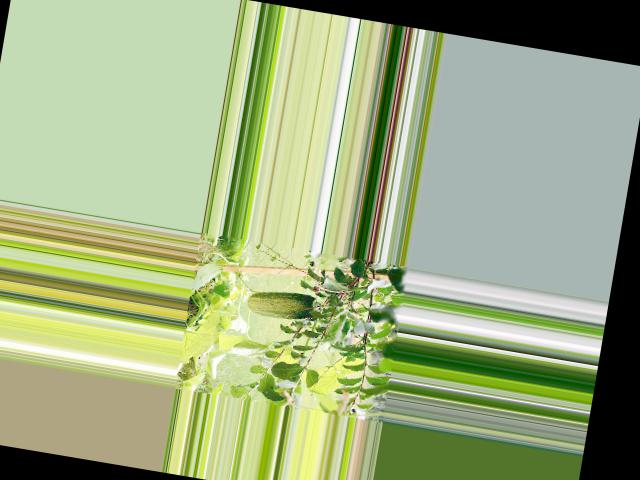cucumber: (245, 284, 324, 324)
